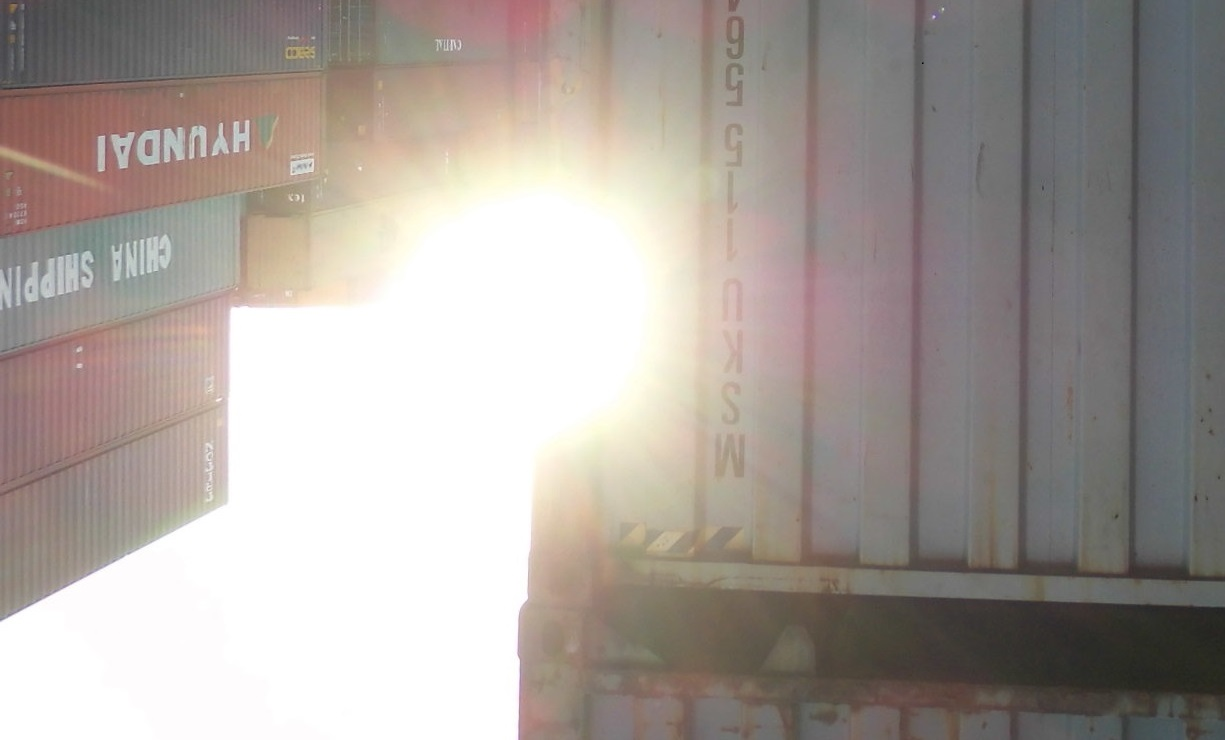container_no_door: (533, 7, 1223, 600)
